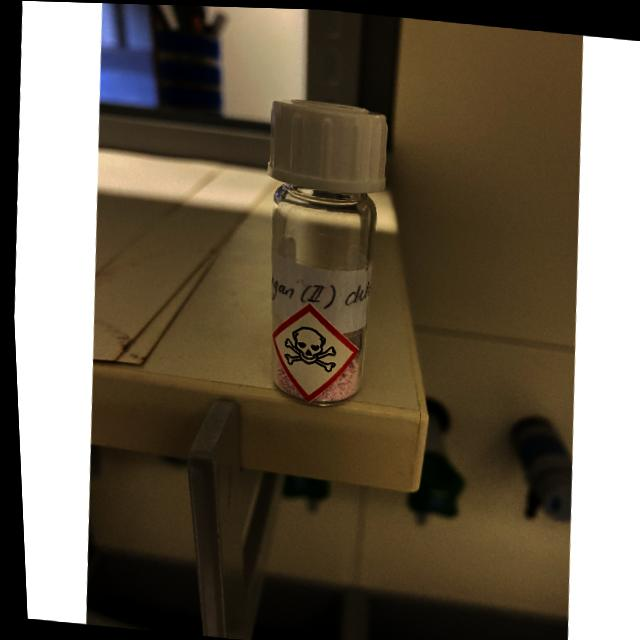acute toxicity: (279, 323, 334, 370)
